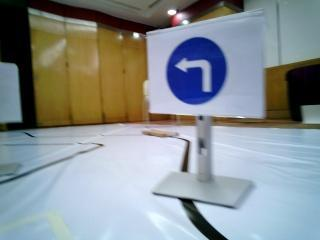left: (151, 32, 258, 108)
